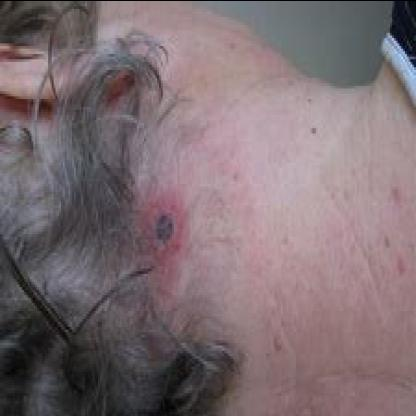Tick: (139, 185, 179, 273)
